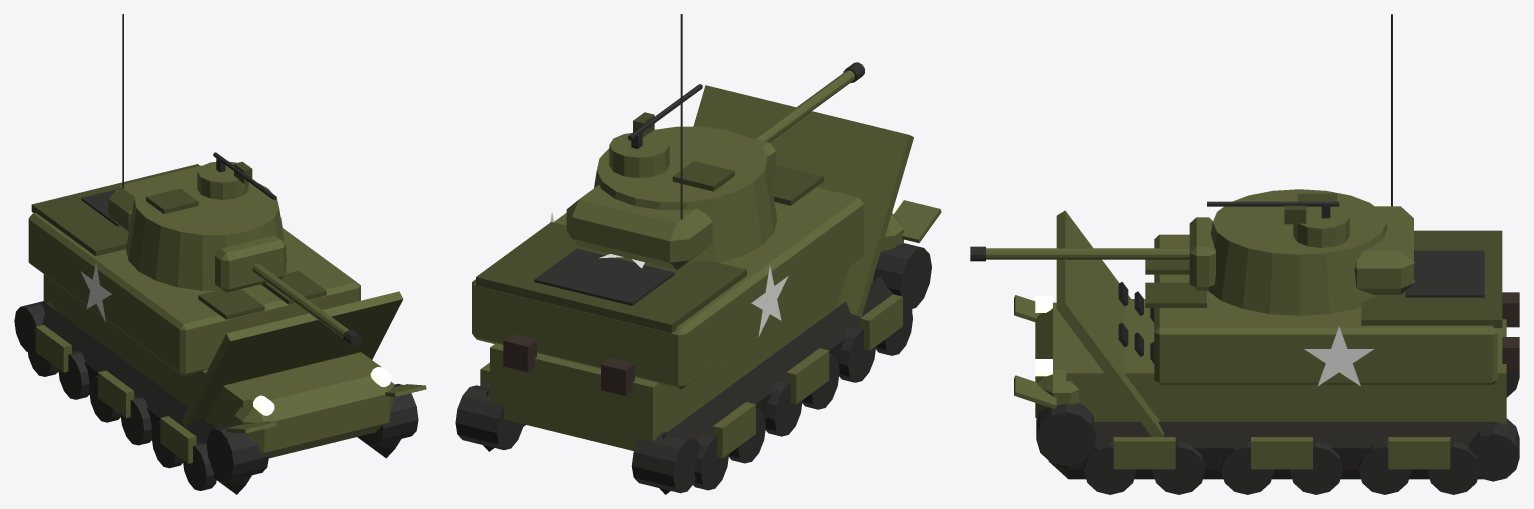
File: sherman_simples.glb
3 views of the same model, side by side, from view 1: azimuth 30°, elevation 25°; view 2: azimuth 150°, elevation 25°; view 3: azimuth 270°, elevation 25° (orthographic). The views are drawn at different scales.
Parts seen in each view (by area): view 1: Casco, Torre; view 2: Casco, Torre; view 3: Casco, Torre.
Part boxes in pixels (<box>): Casco: <box>14,164,426,494</box>; Torre: <box>108,14,361,347</box>; Casco: <box>455,85,941,494</box>; Torre: <box>566,14,864,269</box>; Casco: <box>1014,210,1519,494</box>; Torre: <box>970,14,1413,315</box>.
Bounding box in the file's own units: 2.97 × 5.08 × 6.24.
